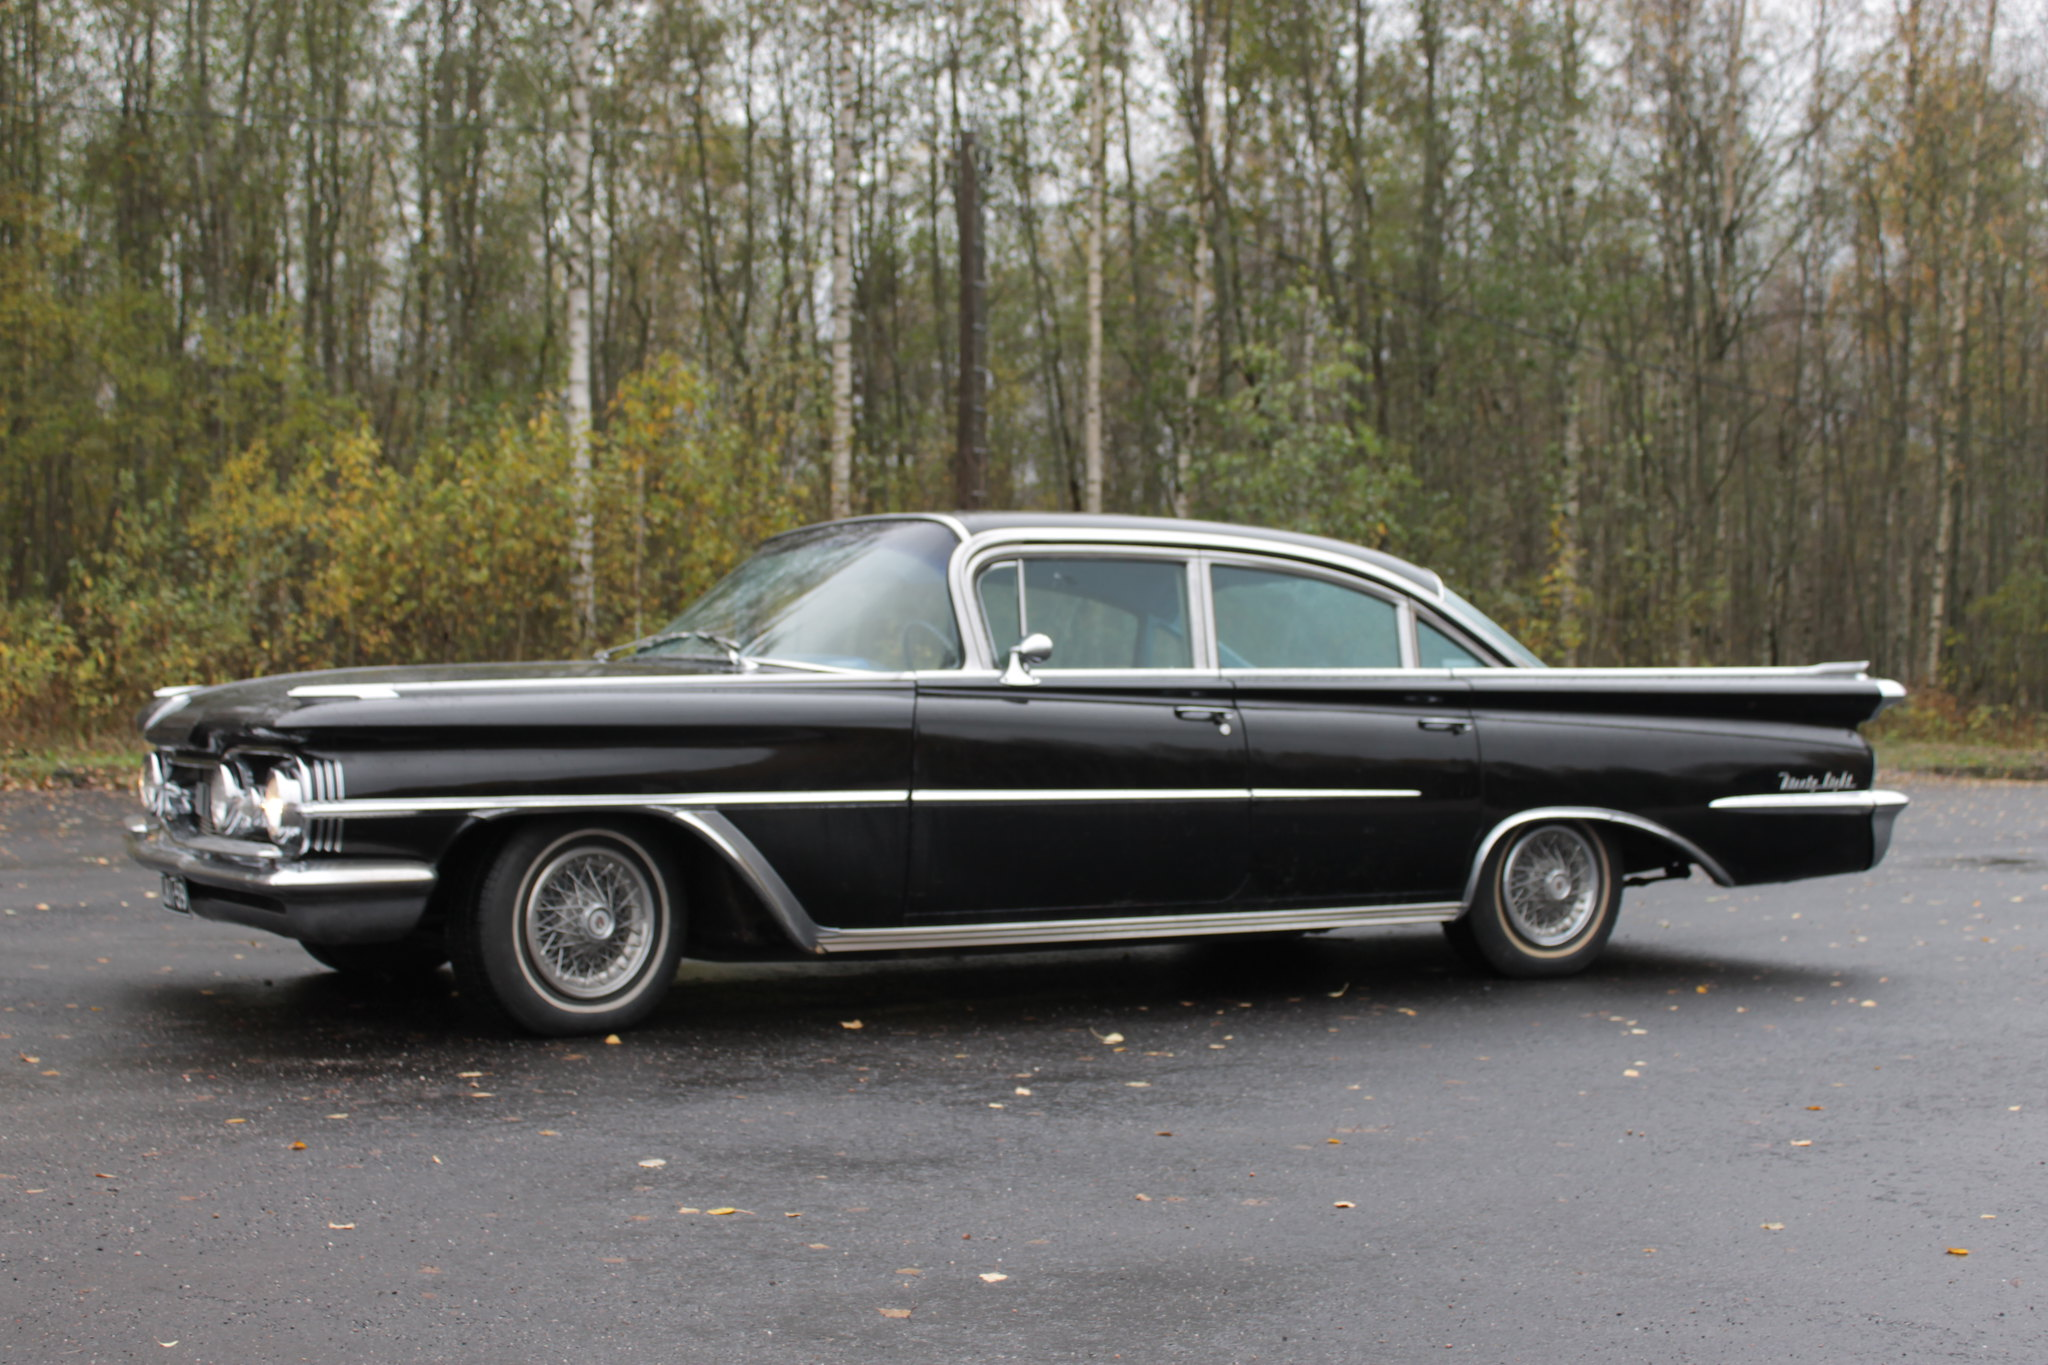car: (111, 509, 1940, 1024)
